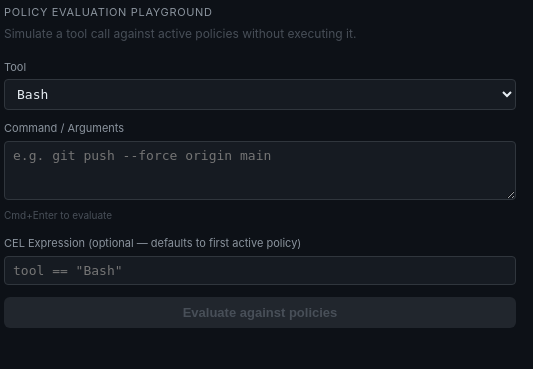
Test case: PolicyPlayground — offline error state › shows daemon-required error when fetch returns HTTP 500, no result rendered
The image size is (533, 369).
Type "some command" into the text box with placeholder "e.g. git push --force origin main" at (260, 170), box [4,140,516,200]
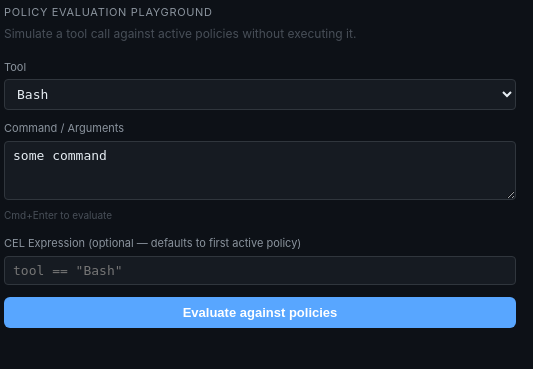
Click the button "Evaluate against policies" at (260, 312), box [4,296,516,328]
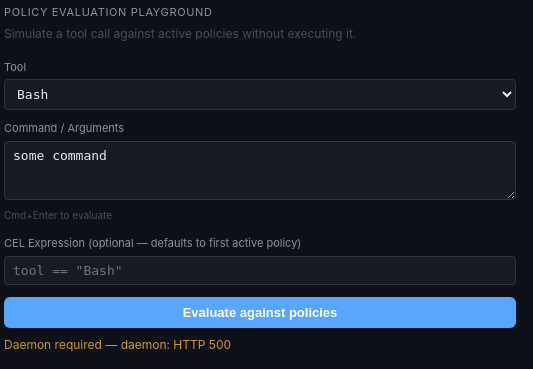
Now the text "Daemon required — daemon: HTTP 500" is shown, box [4,336,231,352]
